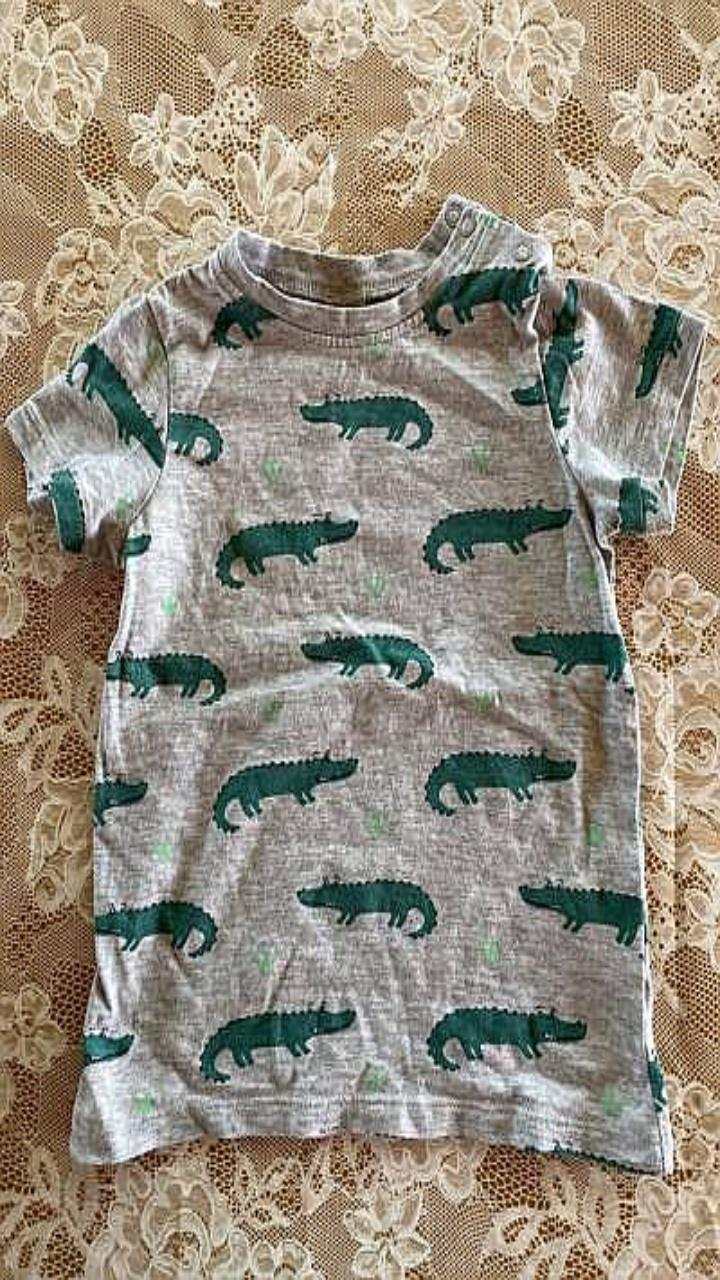T-Shirt: (7, 192, 707, 1173)
